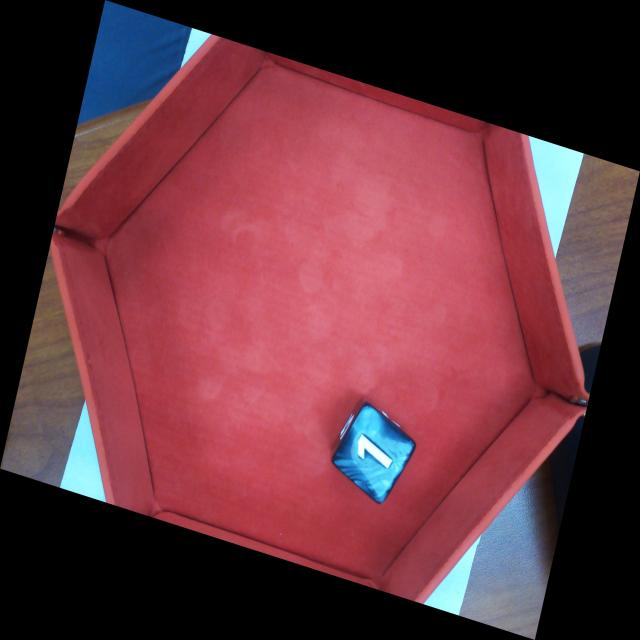dice: (329, 401, 417, 508)
